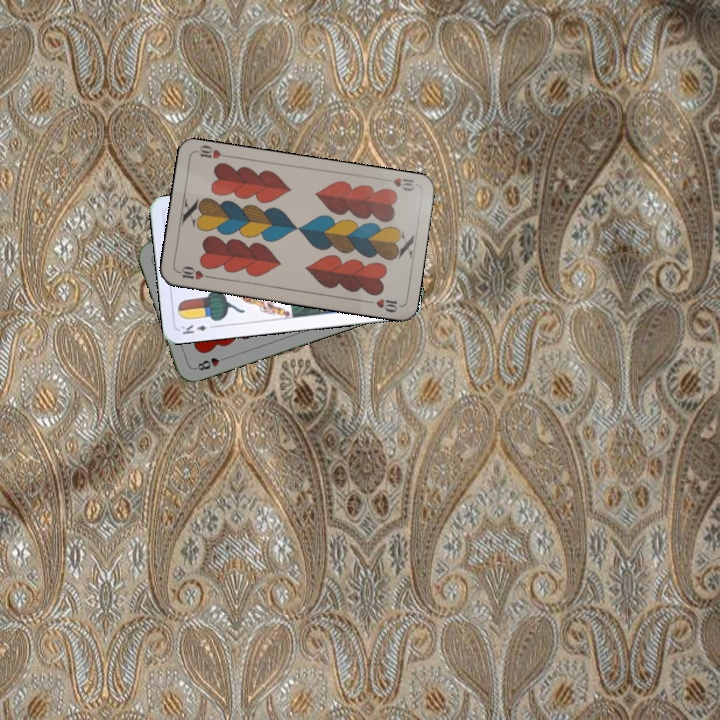EK: (177, 321, 218, 337)
H10: (379, 173, 417, 194), (174, 263, 215, 282)
H8: (191, 352, 230, 373)
